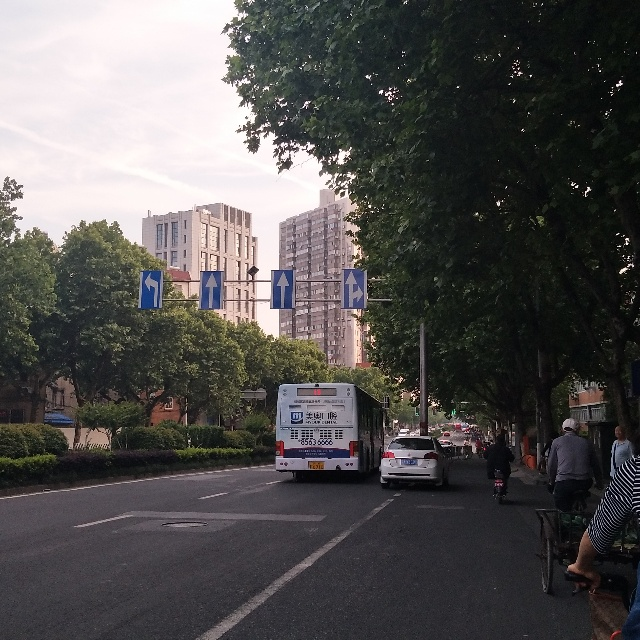left: (136, 269, 164, 313)
straight: (270, 268, 295, 312), (199, 272, 227, 309)
